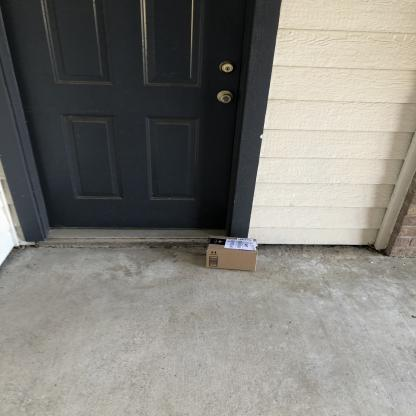package: (200, 233, 265, 273)
